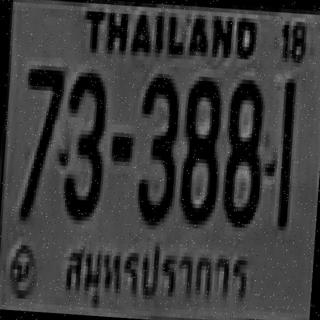N01: (275, 78, 296, 226), (276, 78, 295, 226)
N03: (133, 70, 180, 224), (59, 67, 107, 217)
N07: (16, 60, 63, 218)
N08: (221, 74, 265, 224), (178, 71, 222, 221)
P57: (56, 230, 256, 310)
